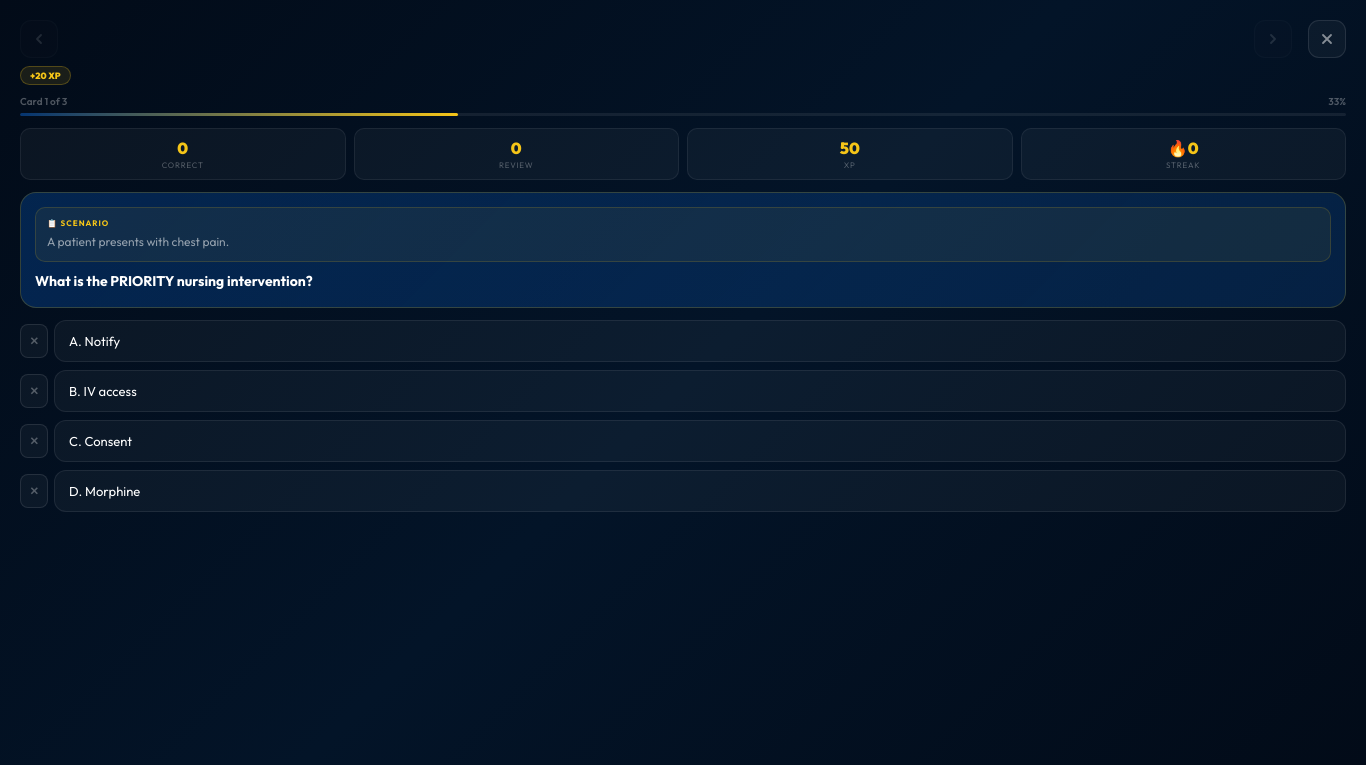
Test: CardScreen › study mode shows result bar and CCCC layers after submit
What coordinates should you click on to do the following:
click the button "A. Notify"
I would click on:
 (95, 341)
Its box is [54, 320, 1346, 362].
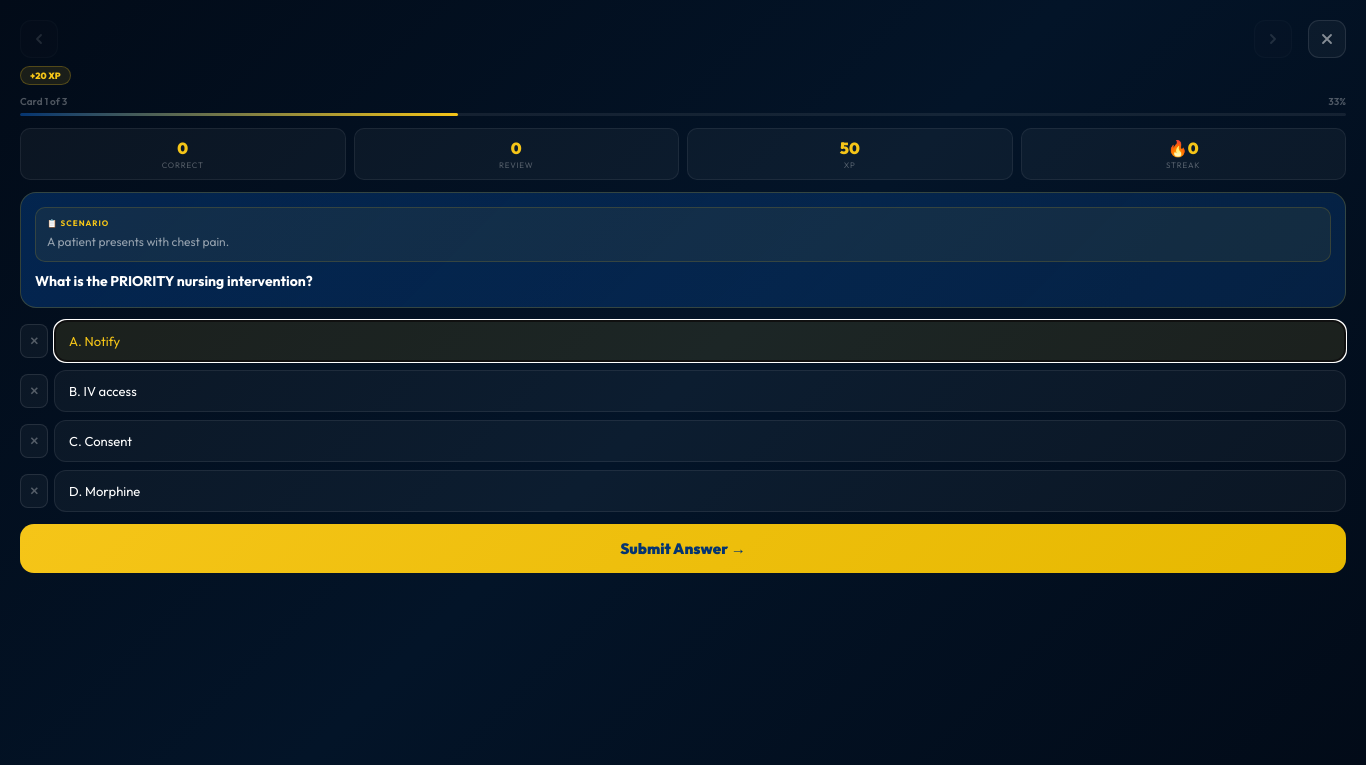
What coordinates should you click on to do the following:
click the button "Submit Answer →"
I would click on:
 (683, 548)
Its box is [20, 524, 1346, 573].
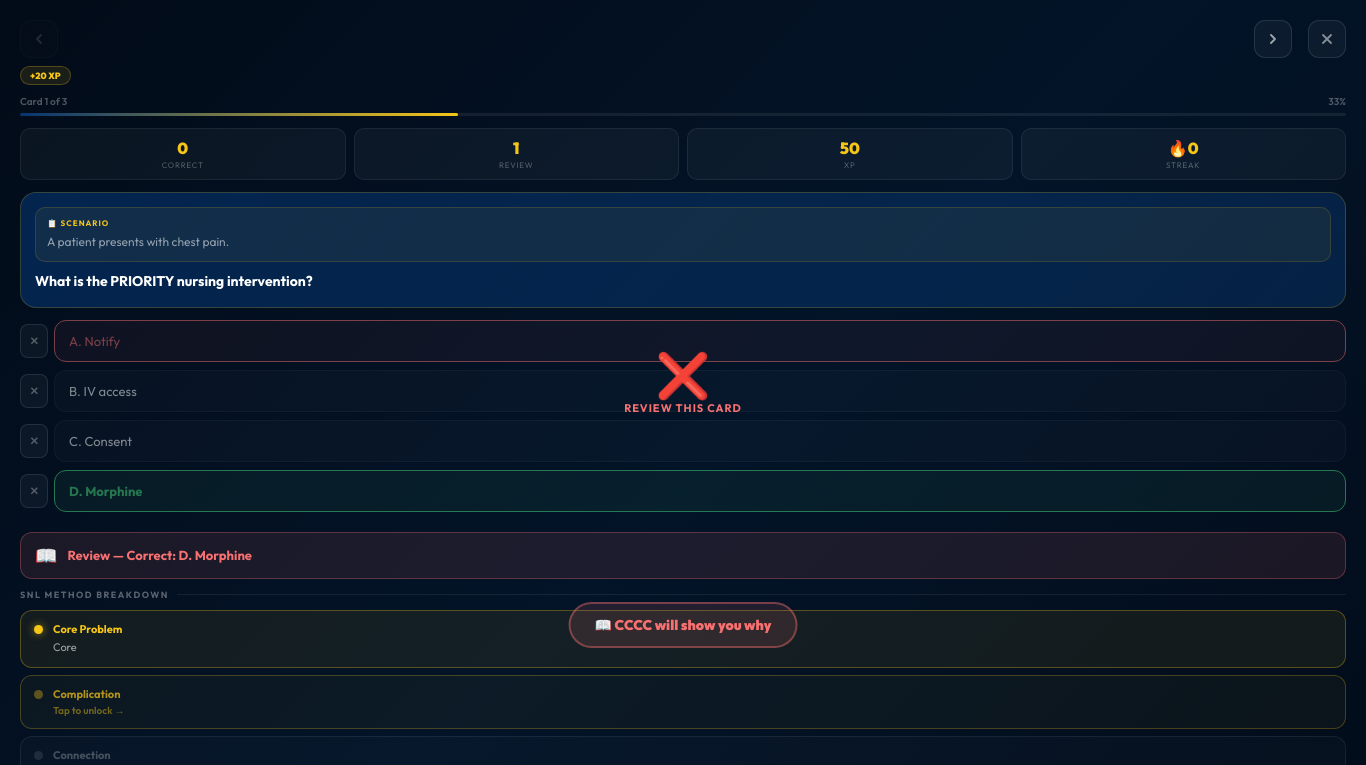
Check: the text "SNL Method Breakdown" is shown, box [20, 589, 169, 600]
Check: the text "Core Problem" is shown, box [53, 622, 122, 636]
